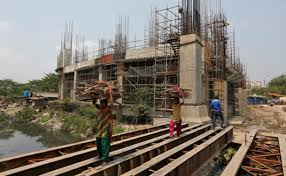helmet: (210, 92, 219, 99)
human: (166, 93, 186, 136), (206, 91, 226, 127)
leg: (218, 110, 227, 128), (210, 110, 217, 127)
novest: (170, 103, 183, 120), (208, 98, 221, 112)
vest: (95, 104, 113, 140)
